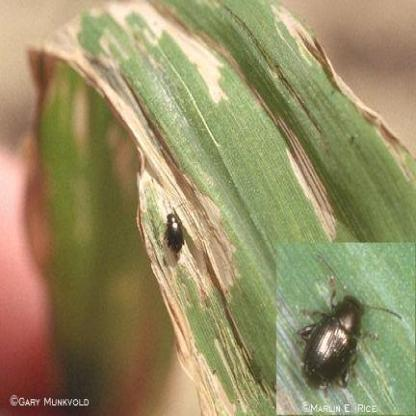beetle: (300, 278, 391, 390), (160, 195, 192, 256)
